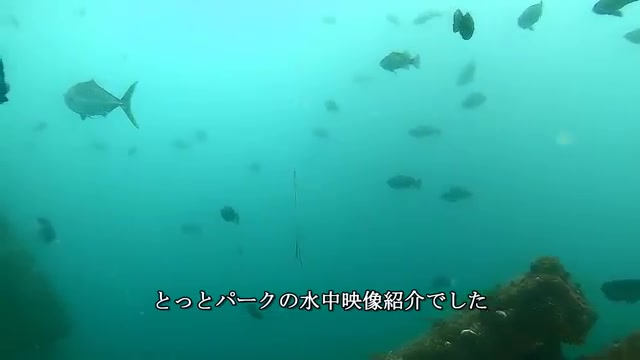smallfish: (54, 68, 146, 136), (380, 49, 421, 76), (447, 185, 489, 209), (376, 175, 429, 193), (214, 206, 249, 227)
